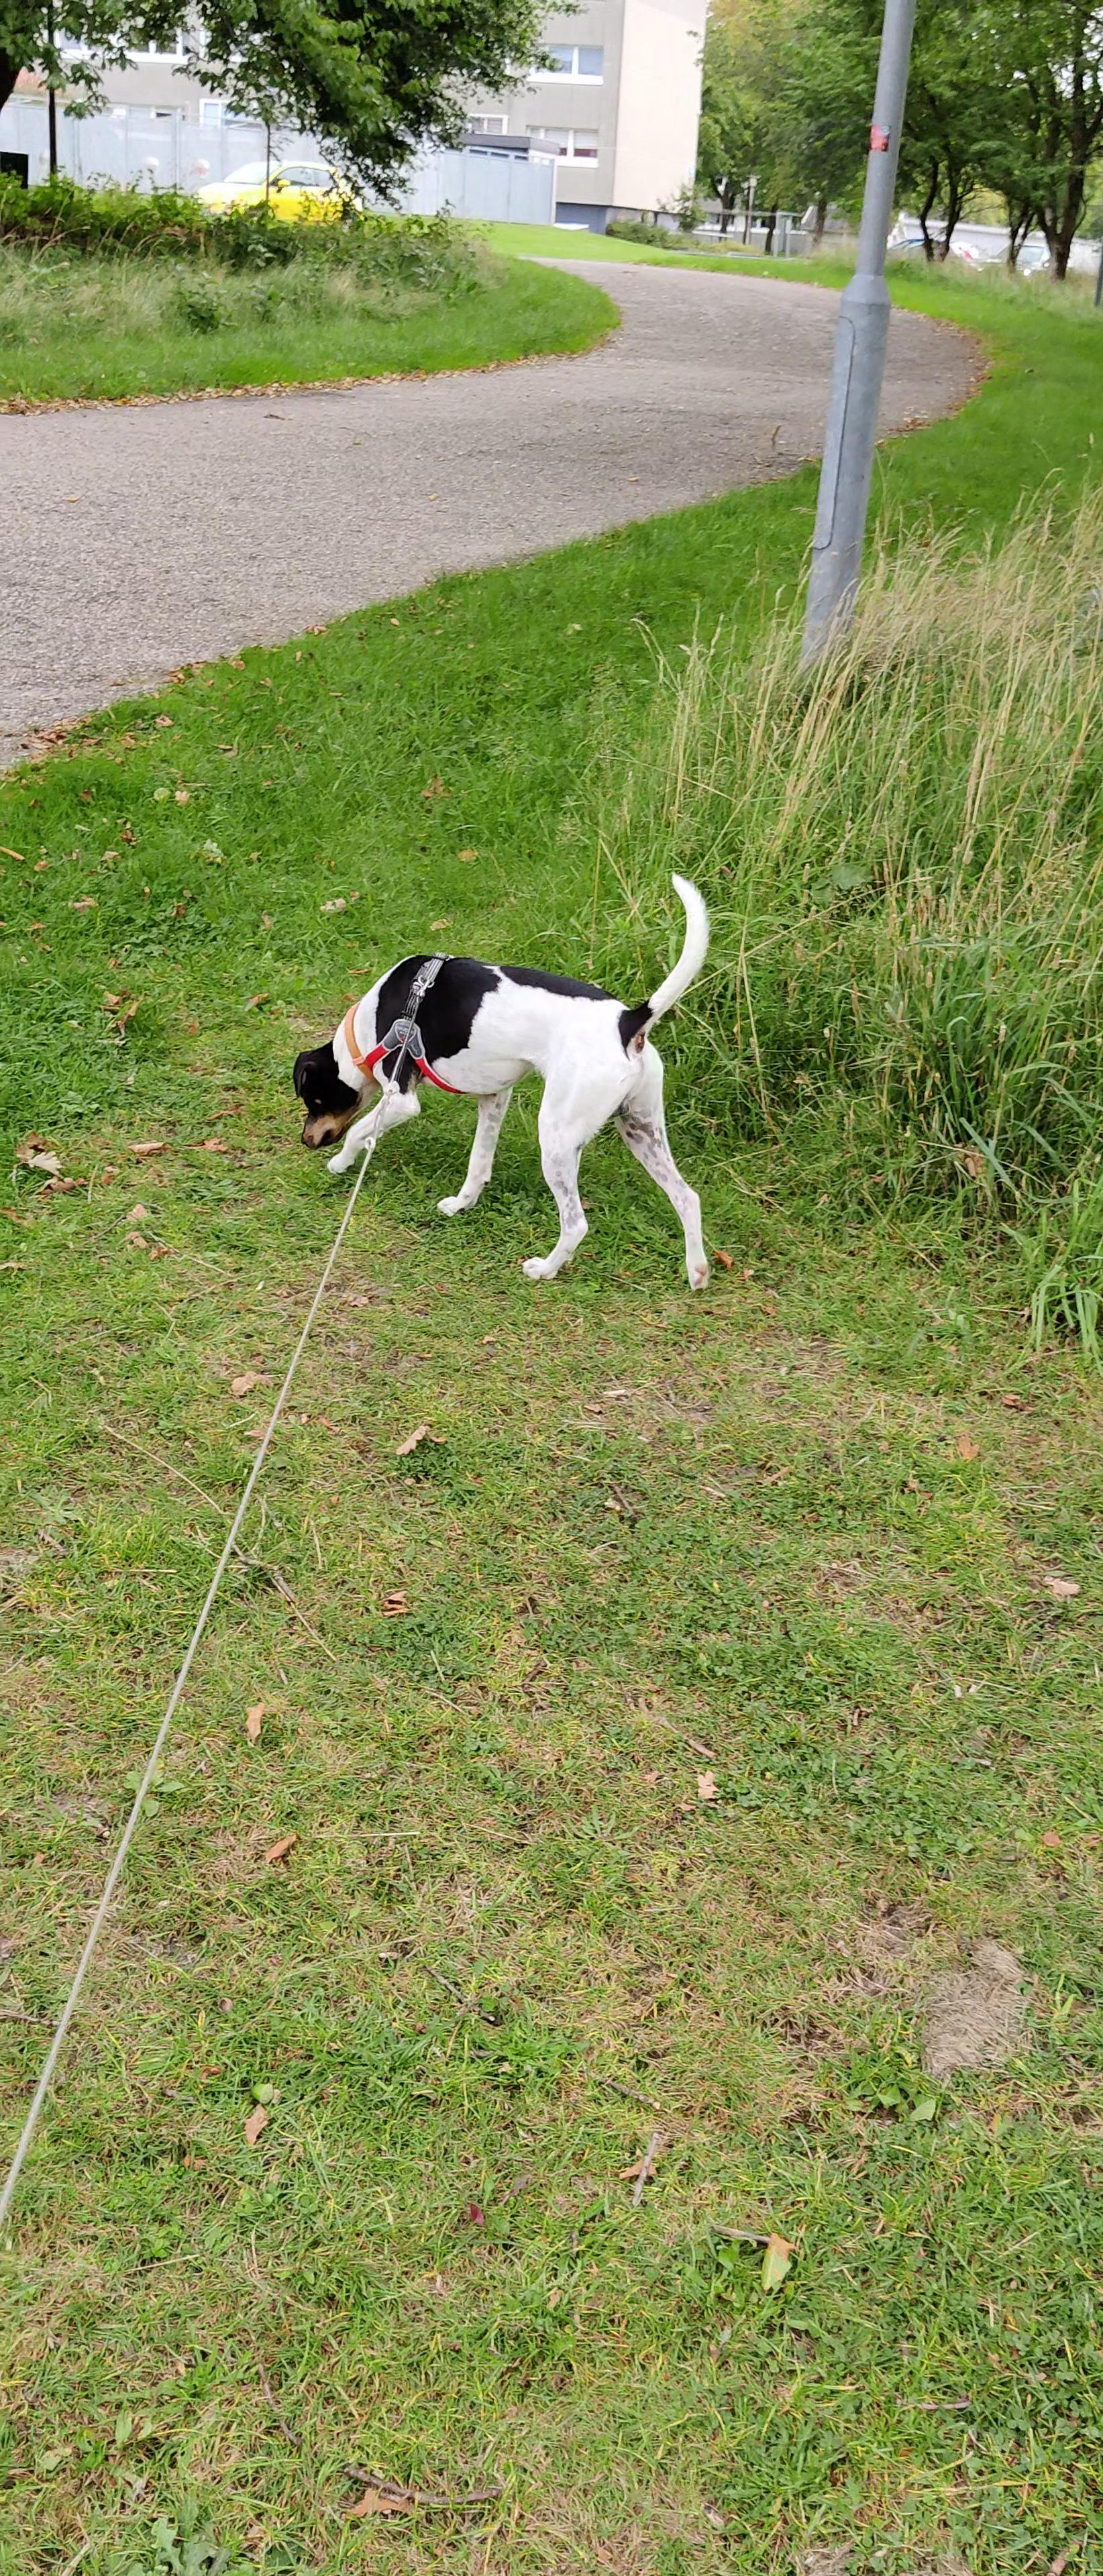Dog: (279, 856, 720, 1309)
